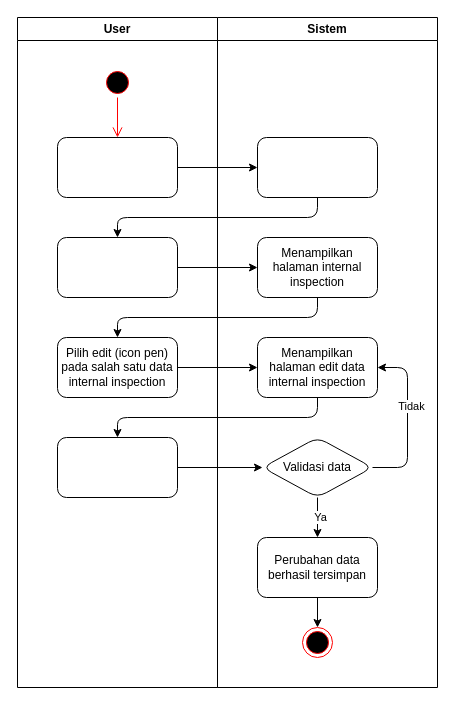
The diagram is 455 pixels wide and 705 high, and some of its shapes have lost their labels. The box of each missing label's shape, as (x1, y1, x2, y2) in pixels:
Edit data internal inspection: (56, 436, 178, 498)
Menampilkan halaman laporan inspection: (256, 136, 378, 198)
Pilih detail (icon settings) pada salah satu data laporan inspection: (56, 236, 178, 298)
Pilih fitur laporan inspection: (56, 136, 178, 198)
